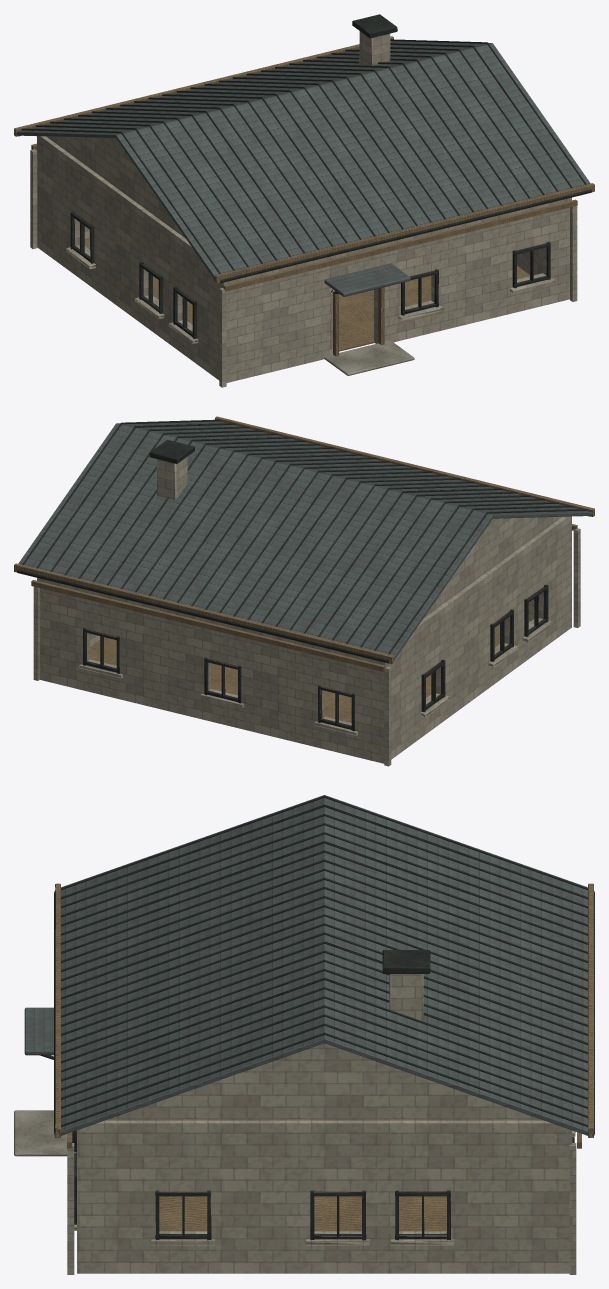
File: house.glb
3 views of the same model, one above another, from view 1: azimuth 30°, elevation 25°; view 2: azimuth 150°, elevation 25°; view 3: azimuth 270°, elevation 25° (orthographic). The views are drawn at different scales.
Visible parts, largest first — view 1: Building_roof, Building_ivory, Building_steel, Building_wood, Weathered horizontal timber lintel, Entry paving, Building_limestone, Stone corner pier.001, Stone corner pier, Stone corner pier.002, Building_bronze; view 2: Building_roof, Building_ivory, Building_steel, Building_wood, Weathered horizontal timber lintel.001, Building_limestone, Building_bronze, Stone corner pier.001, Stone corner pier, Stone corner pier.003; view 3: Building_roof, Building_ivory, Building_steel, Building_wood, Entry paving, Building_limestone, Stone corner pier.003, Stone corner pier.002.
Part boxes in pixels (<box>): Building_roof: <box>16,41,590,296</box>; Building_ivory: <box>37,136,571,382</box>; Building_steel: <box>19,14,591,338</box>; Building_wood: <box>14,36,594,356</box>; Weathered horizontal timber lintel: <box>223,199,577,291</box>; Entry paving: <box>324,340,414,375</box>; Building_limestone: <box>359,31,390,65</box>; Stone corner pier.001: <box>30,149,37,248</box>; Stone corner pier: <box>219,288,226,387</box>; Stone corner pier.002: <box>570,206,577,301</box>; Building_bronze: <box>80,221,533,329</box>; Building_roof: <box>18,421,592,659</box>; Building_ivory: <box>37,516,571,763</box>; Building_steel: <box>17,419,589,731</box>; Building_wood: <box>14,416,594,722</box>; Weathered horizontal timber lintel.001: <box>31,580,385,671</box>; Building_limestone: <box>156,456,187,499</box>; Building_bronze: <box>100,595,538,724</box>; Stone corner pier.001: <box>384,666,391,766</box>; Stone corner pier: <box>573,528,580,627</box>; Stone corner pier.003: <box>33,586,39,680</box>; Building_roof: <box>24,795,589,1135</box>; Building_ivory: <box>74,1043,575,1273</box>; Building_steel: <box>54,795,594,1240</box>; Building_wood: <box>55,883,593,1231</box>; Entry paving: <box>14,1110,67,1156</box>; Building_limestone: <box>389,974,423,1021</box>; Stone corner pier.003: <box>569,1143,576,1274</box>; Stone corner pier.002: <box>67,1143,74,1274</box>.
Size of the model in its own units: 13.45 by 6.87 by 13.47.
Materials: 6 (5 with a texture image).
